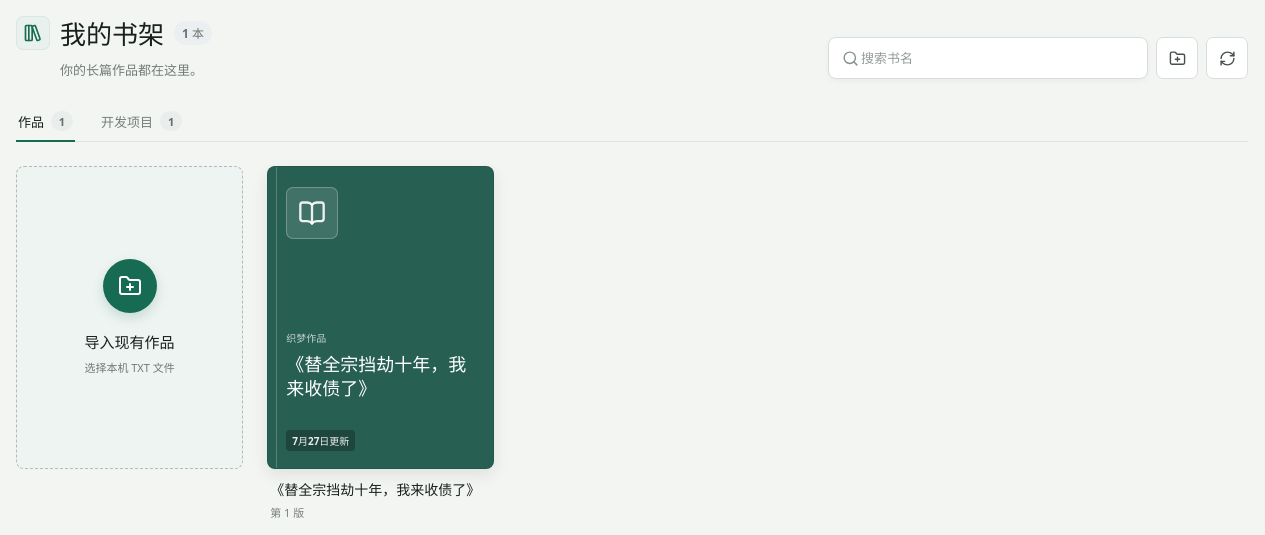
Test: Bookshelf › keeps validation folders out of the default bookshelf
The width and height of the screenshot is (1265, 535).
Expected: the 1st text "《替全宗挡劫十年，我来收债了》" is shown, x1=286 y1=352 x2=475 y2=418
Click the tab "开发项目 1": point(142, 121) x1=99 y1=101 x2=184 y2=141
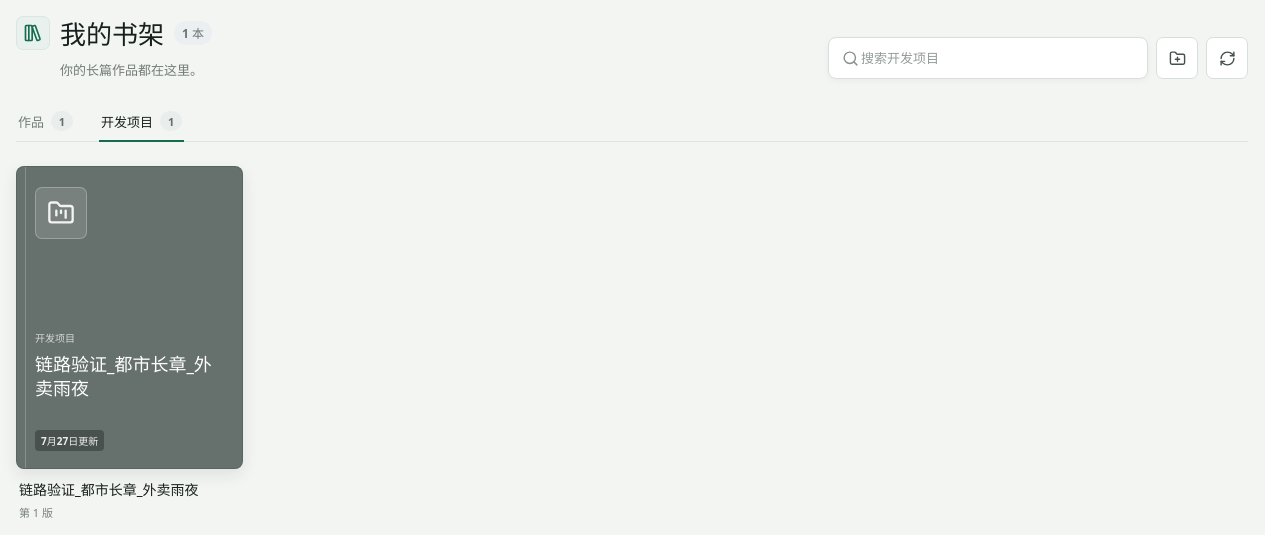
Expected: the 1st text "链路验证_都市长章_外卖雨夜" is shown, x1=35 y1=352 x2=224 y2=418
Expected: the button "《替全宗挡劫十年，我来收债了》" is gone
